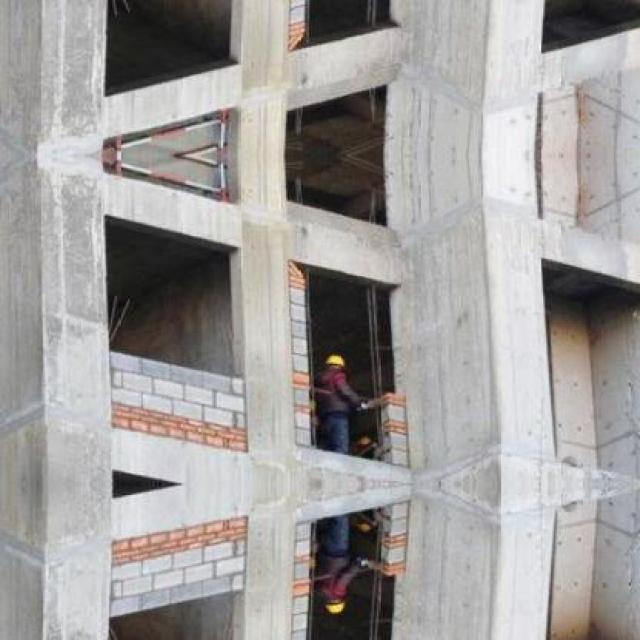helmet: (321, 350, 350, 379), (321, 587, 350, 616)
